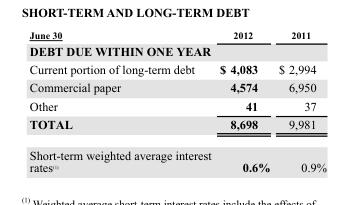table: (28, 29, 325, 173)
table column: (28, 29, 214, 173), (214, 29, 273, 173), (273, 29, 325, 173)
table column header: (28, 29, 325, 41)
table projected row header: (28, 41, 325, 59)
table row: (28, 139, 325, 173), (28, 114, 325, 139), (28, 59, 325, 78), (28, 41, 325, 59), (28, 78, 325, 96), (28, 96, 325, 114), (28, 29, 325, 41)
